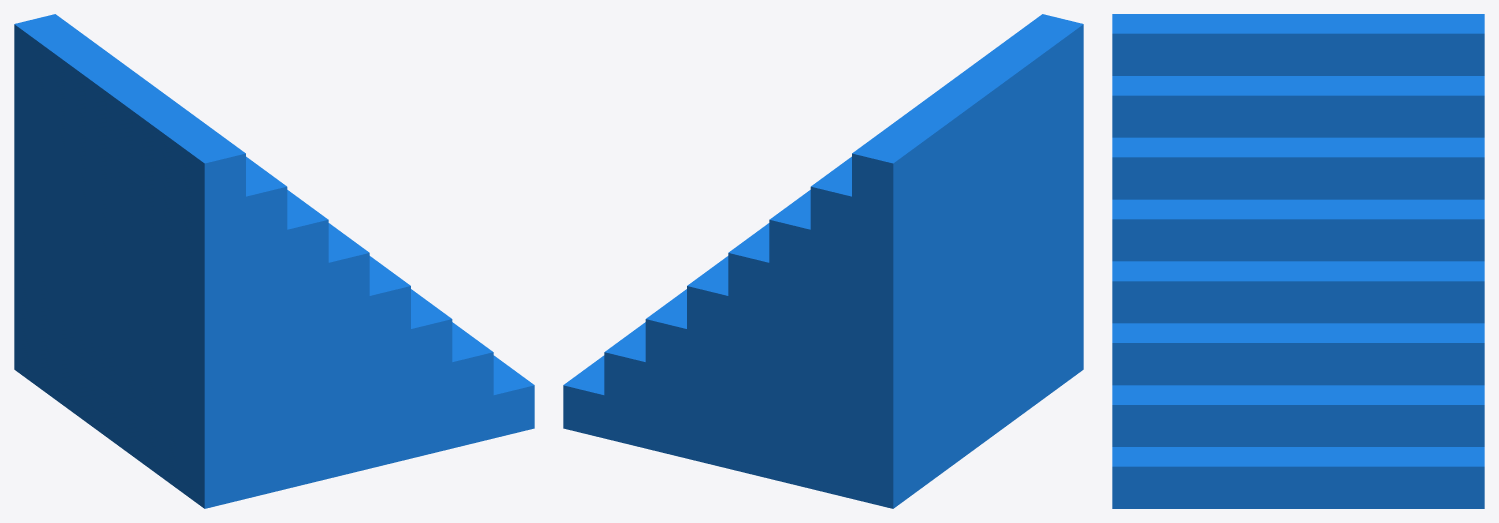
Rendered from Proto_Block_Stairs_02.fbx.
3 renders of one model, left to right at view 1: azimuth 30°, elevation 25°; view 2: azimuth 150°, elevation 25°; view 3: azimuth 270°, elevation 25°, orthographic. The views are drawn at different scales.
Parts seen in each view (by area): view 1: Proto_Block_Stairs_02; view 2: Proto_Block_Stairs_02; view 3: Proto_Block_Stairs_02.
Part boxes in pixels (bbox=[...]): Proto_Block_Stairs_02: bbox=[14, 14, 534, 508]; Proto_Block_Stairs_02: bbox=[563, 14, 1083, 508]; Proto_Block_Stairs_02: bbox=[1112, 14, 1484, 508].
Size of the model in its own units: 1 by 1 by 1.
